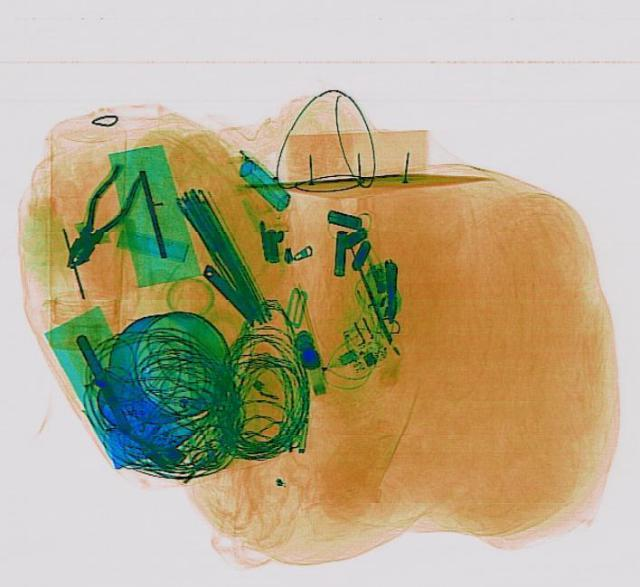Pliers: (50, 159, 148, 275)
